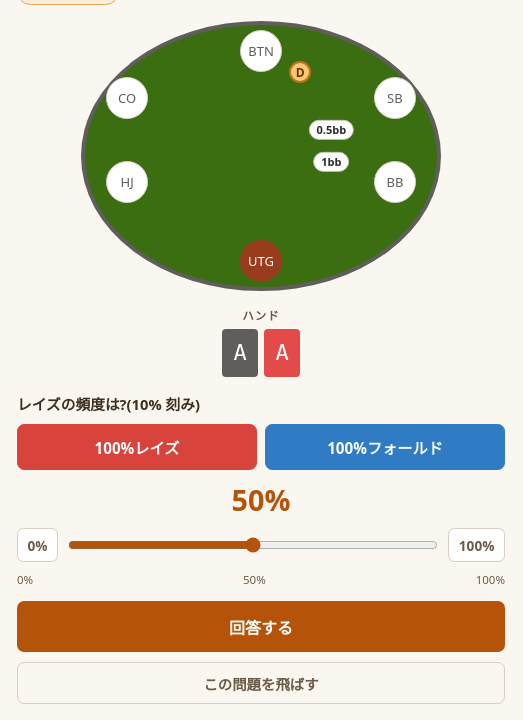
TrainingPlayPositional 即時フィードバック (UI) › トグルON: スライダー回答で判定/pt/頻度/「次のハンドへ」/「正解%/あなた%」が出る
This screenshot has width=523, height=720.
(page scrolled)
Note: 出題 → アニメ完了でスライダーUIが出る
What coordinates should you click on to do the following:
click the button "回答する"
I would click on:
 (261, 627)
Its box is x1=17 y1=601 x2=505 y2=652.
(page scrolled)
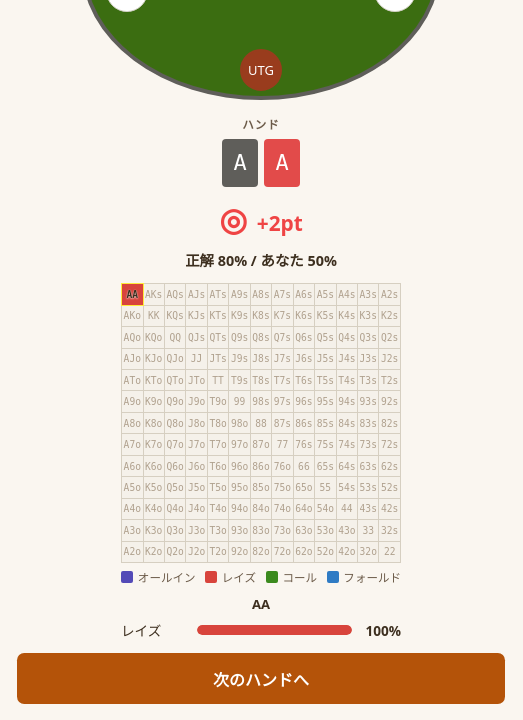
Expected: the button "次のハンドへ" is shown, x1=17 y1=653 x2=505 y2=704
Expected: the text "◎" is shown, x1=219 y1=203 x2=247 y2=235
Expected: the text "+2pt" is shown, x1=257 y1=209 x2=303 y2=237
